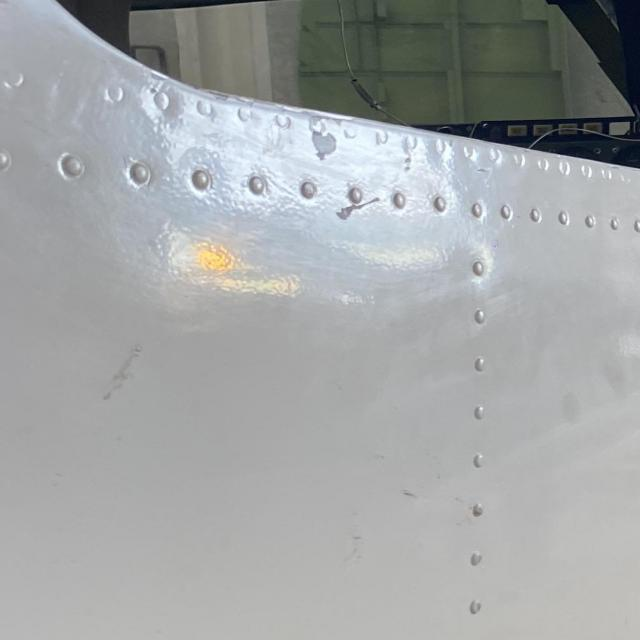Paint-off: (401, 140, 428, 177), (308, 126, 334, 158), (463, 159, 494, 177)
Scratch: (333, 197, 386, 219)
